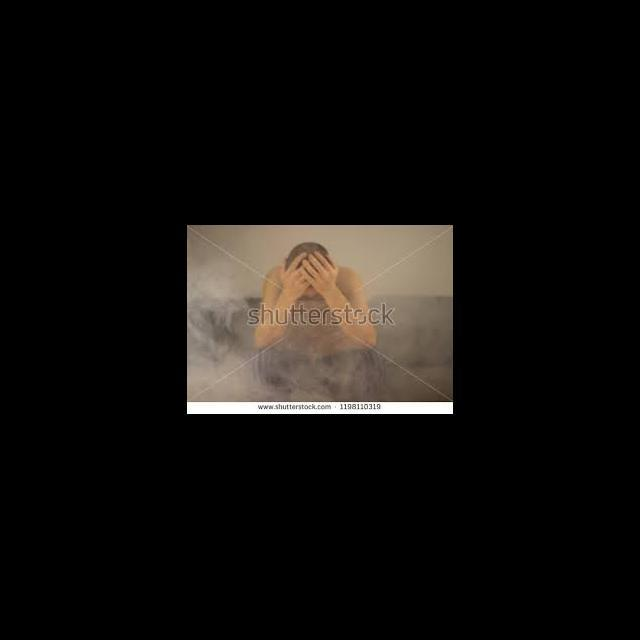Smoke: (250, 349, 450, 401), (187, 246, 246, 400), (401, 292, 451, 347)
